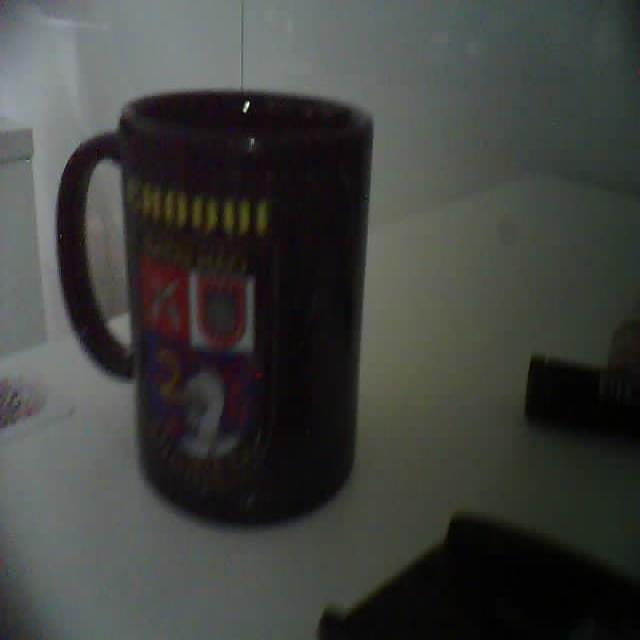caneca: (57, 89, 373, 521)
